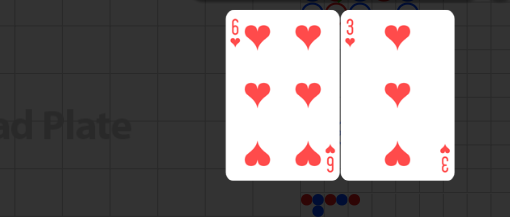3H: (438, 142, 451, 173)
6H: (229, 18, 242, 49)
